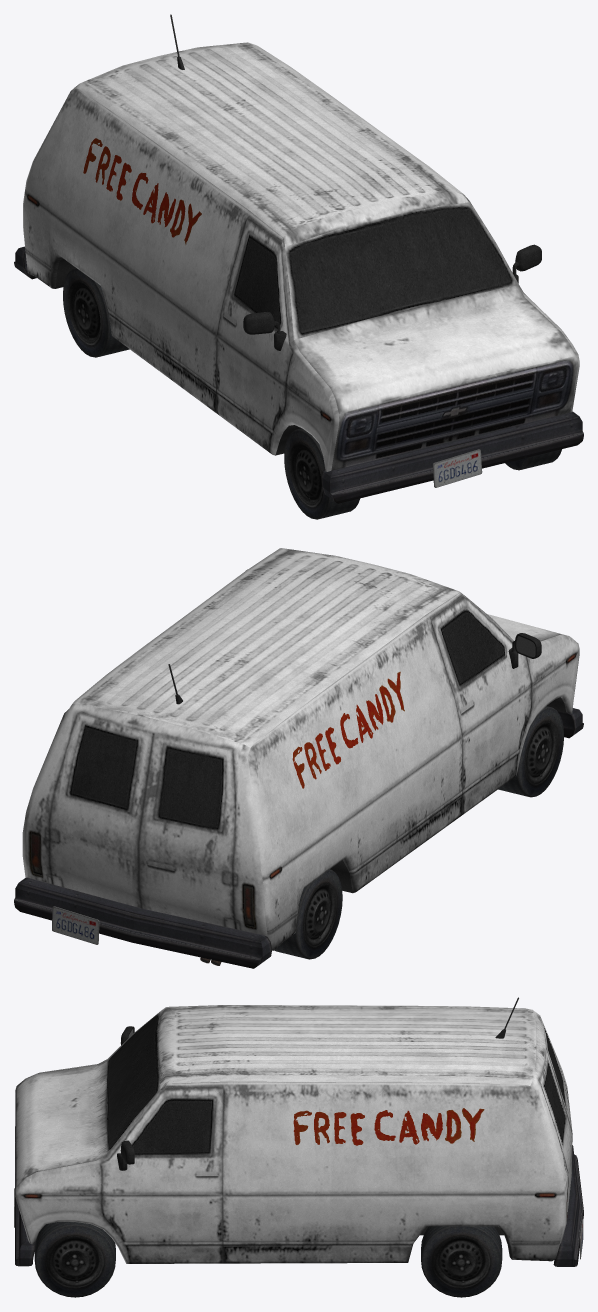
Rendered from van_2.obj.
3 renders of one model, top to bottom at view 1: azimuth 30°, elevation 25°; view 2: azimuth 150°, elevation 25°; view 3: azimuth 270°, elevation 25°, orthographic. The views are drawn at different scales.
Parts seen in each view (by area): view 1: van_2, van_2_wheel_rr, van_2_wheel_fr, van_2_text; view 2: van_2, van_2_wheel_rr, van_2_wheel_fr, van_2_text; view 3: van_2, van_2_wheel_fl, van_2_wheel_rl, van_2_text.
Part boxes in pixels (x1=…): van_2: x1=14, y1=14, x2=583, y2=503; van_2_wheel_rr: x1=63, y1=267, x2=129, y2=357; van_2_wheel_fr: x1=284, y1=428, x2=360, y2=519; van_2_text: x1=83, y1=138, x2=201, y2=244; van_2: x1=14, y1=548, x2=583, y2=968; van_2_wheel_rr: x1=275, y1=869, x2=342, y2=959; van_2_wheel_fr: x1=498, y1=706, x2=563, y2=797; van_2_text: x1=292, y1=671, x2=404, y2=788; van_2: x1=14, y1=997, x2=583, y2=1266; van_2_wheel_fl: x1=34, y1=1222, x2=115, y2=1297; van_2_wheel_rl: x1=421, y1=1226, x2=502, y2=1297; van_2_text: x1=293, y1=1108, x2=484, y2=1145.
Size of the model in its own units: 3.33 by 3.09 by 6.36.
